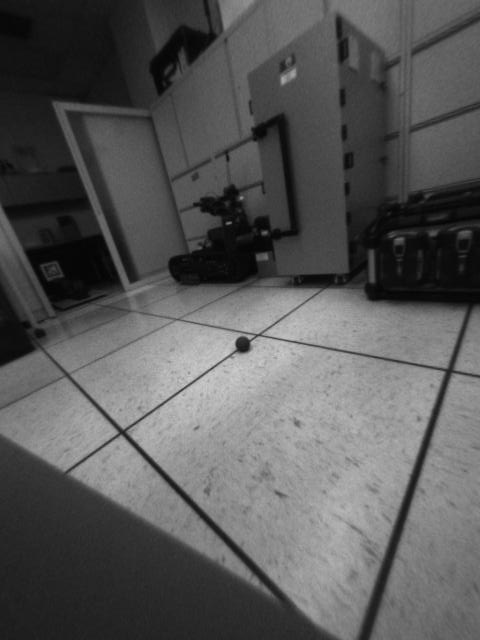dogtoy: (229, 329, 254, 358)
